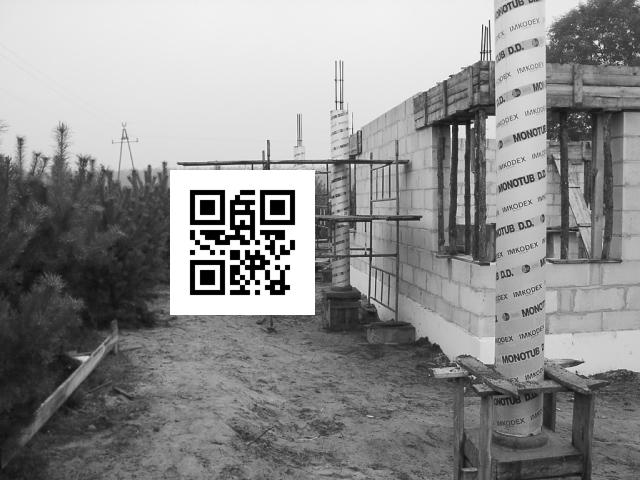qr_code: (171, 170, 313, 314)
